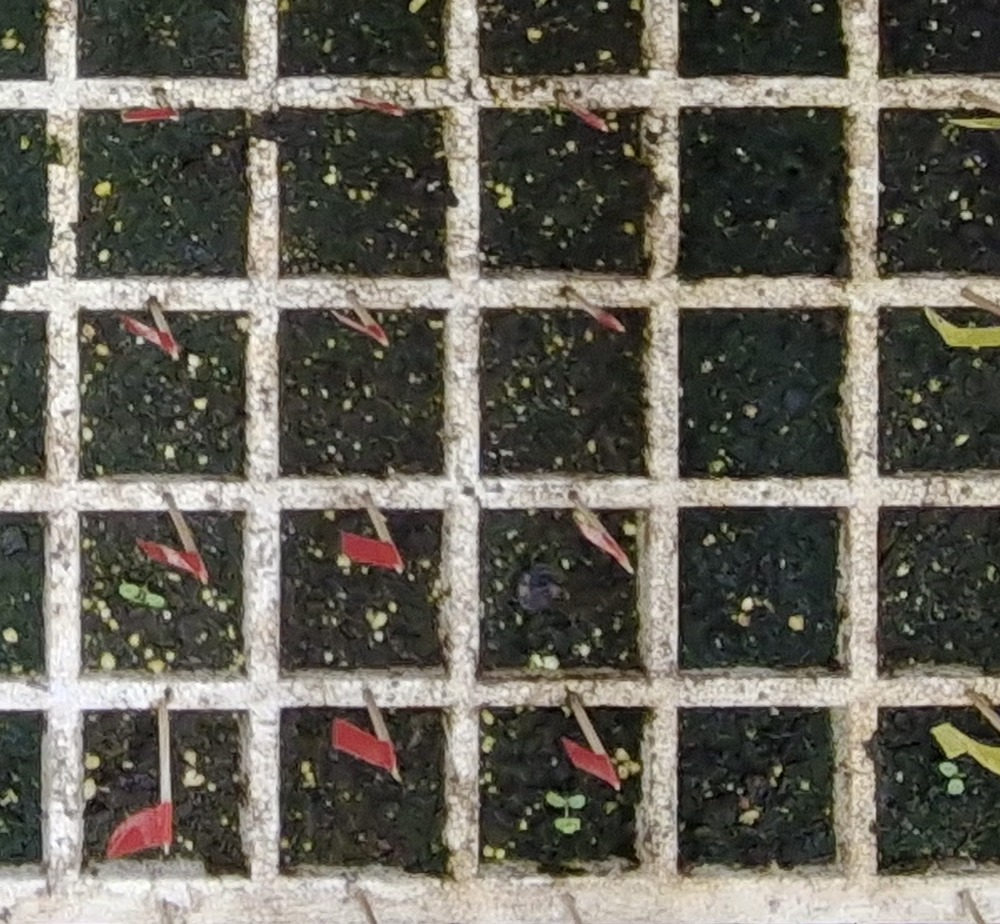Folha: (555, 818, 579, 834), (119, 583, 139, 600), (145, 593, 166, 608), (546, 791, 564, 807), (939, 762, 957, 776), (948, 779, 963, 794), (568, 795, 585, 808)
Germinacao: (547, 790, 587, 835), (118, 583, 164, 609), (939, 761, 967, 795)
